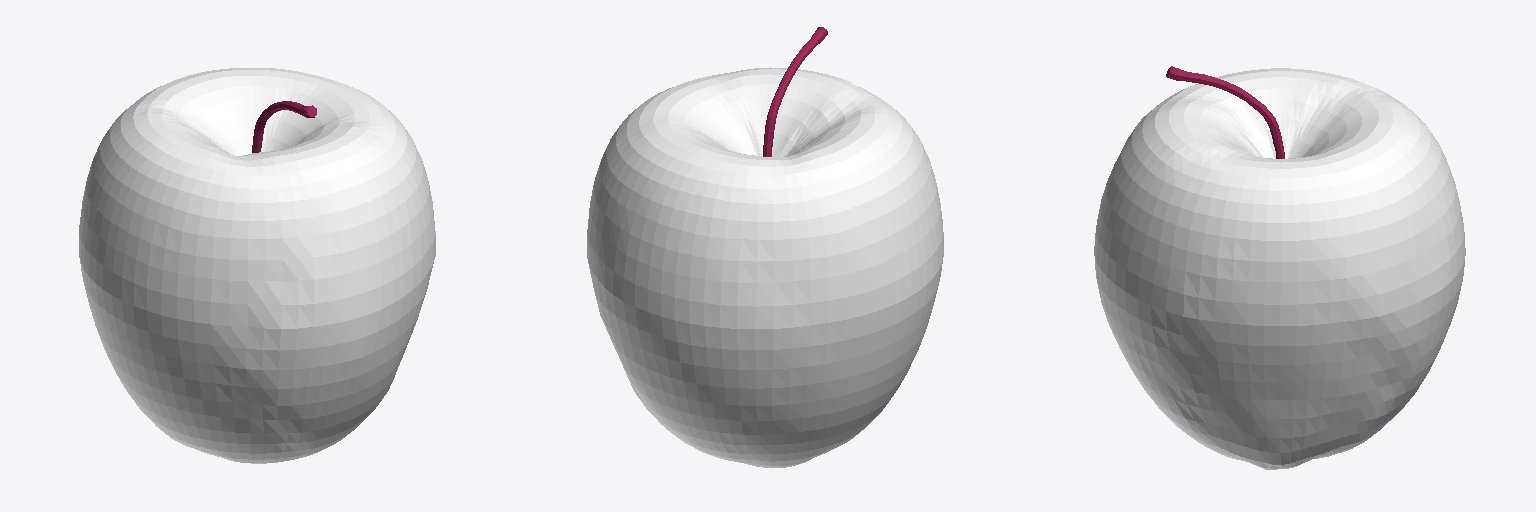
File: apple.obj
3 views of the same model, side by side, from view 1: azimuth 30°, elevation 25°; view 2: azimuth 150°, elevation 25°; view 3: azimuth 270°, elevation 25° (orthographic).
Parts seen in each view (by area): view 1: apple_skin, apple_stem; view 2: apple_skin, apple_stem; view 3: apple_skin, apple_stem.
Boxes of the visible parts, <box> form: apple_skin: <box>79,68,435,463</box>; apple_stem: <box>252,101,316,152</box>; apple_skin: <box>587,67,943,467</box>; apple_stem: <box>763,27,827,156</box>; apple_skin: <box>1094,68,1465,469</box>; apple_stem: <box>1166,66,1284,158</box>.
Bounding box in the file's own units: 65.38 × 77.56 × 68.95.